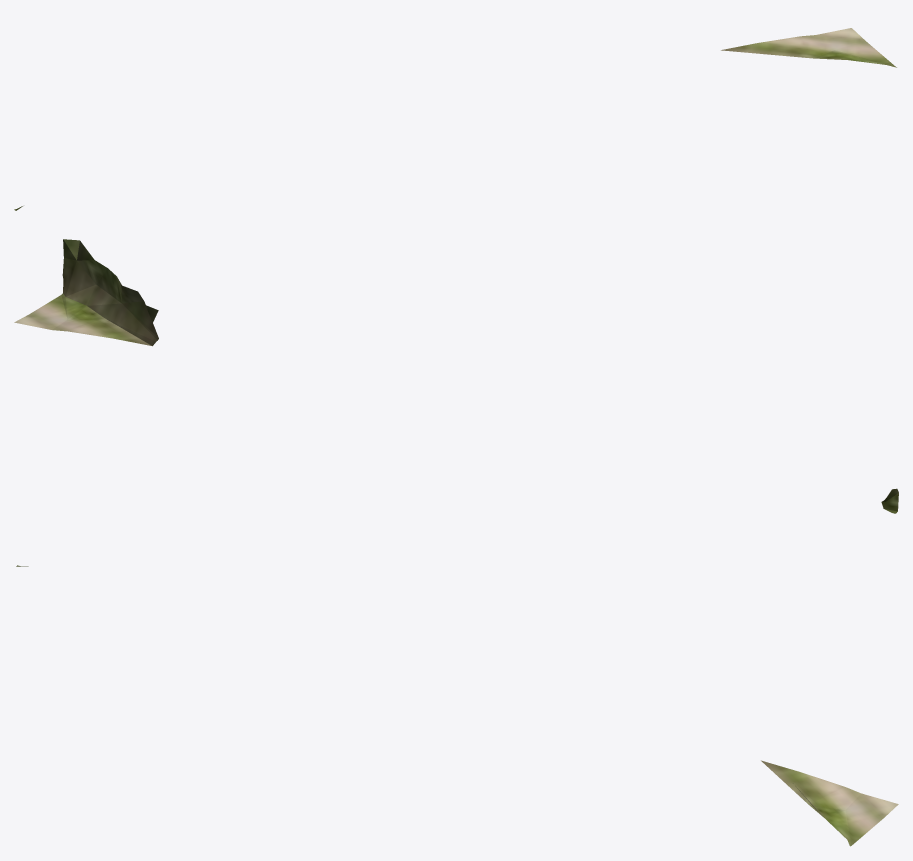
3 renders of one model, top to bottom at view 1: azimuth 30°, elevation 25°; view 2: azimuth 150°, elevation 25°; view 3: azimuth 330°, elevation 25°, orthographic. The views are drawn at different scales.
Bounding box in the file's own units: 52.22 × 3.08 × 5.34.
1 material, 1 textured.
